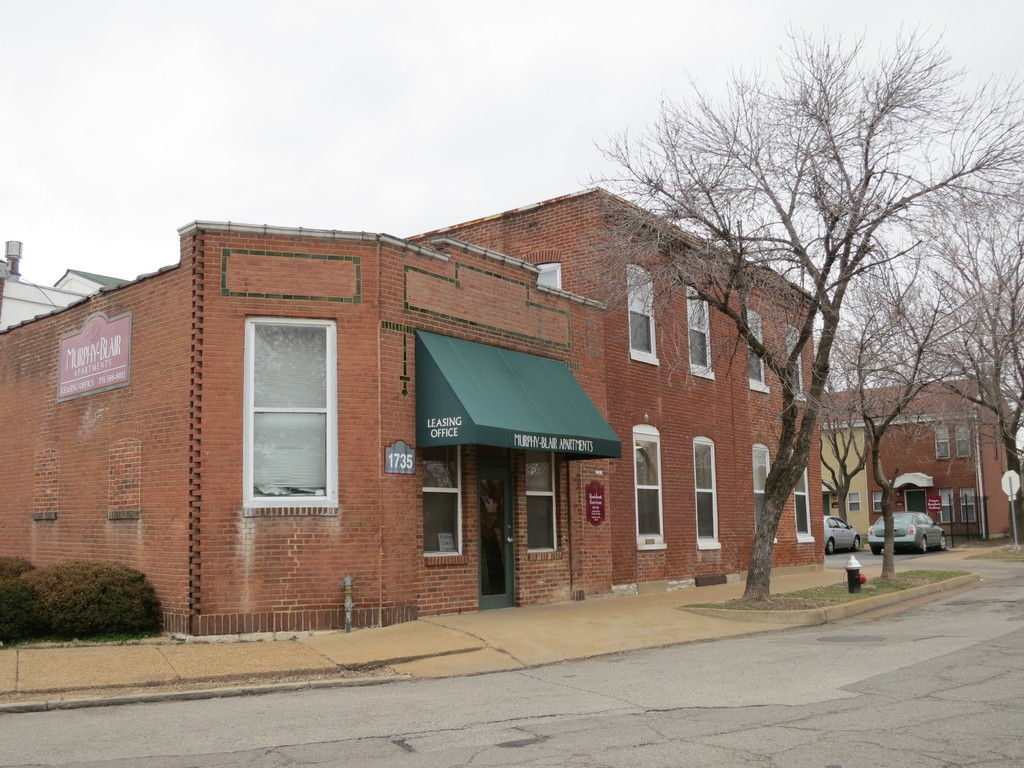Window: (246, 314, 340, 513), (418, 447, 466, 559), (628, 420, 668, 553), (691, 433, 723, 548), (527, 446, 558, 554), (626, 268, 659, 364), (685, 282, 712, 381), (785, 323, 807, 405), (753, 442, 772, 531), (795, 465, 816, 545), (749, 307, 767, 394), (938, 484, 957, 524), (957, 487, 976, 523), (954, 426, 972, 461), (932, 422, 948, 461), (827, 492, 842, 515), (848, 491, 860, 512), (872, 488, 881, 515)
